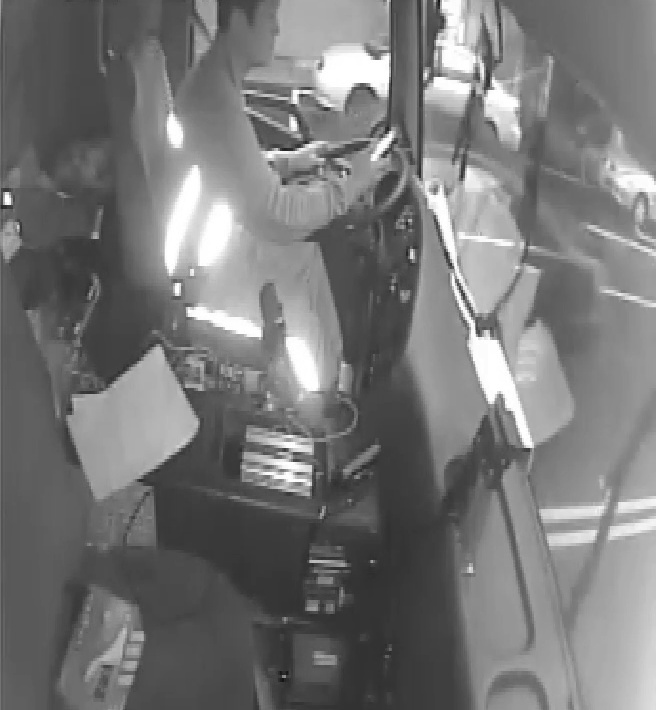cellphone: (358, 127, 398, 170)
